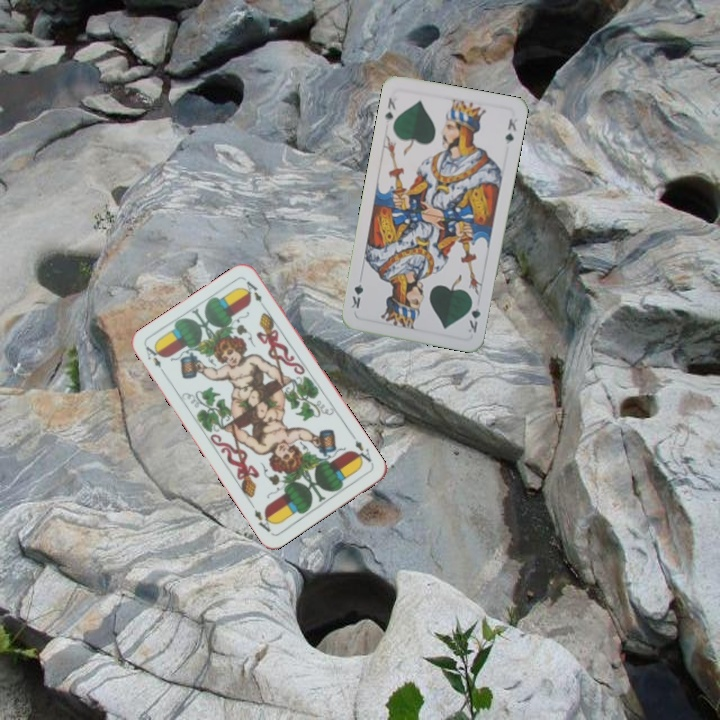EA: (348, 431, 376, 467), (142, 342, 169, 378)
GK: (463, 296, 483, 335), (381, 93, 398, 126)
